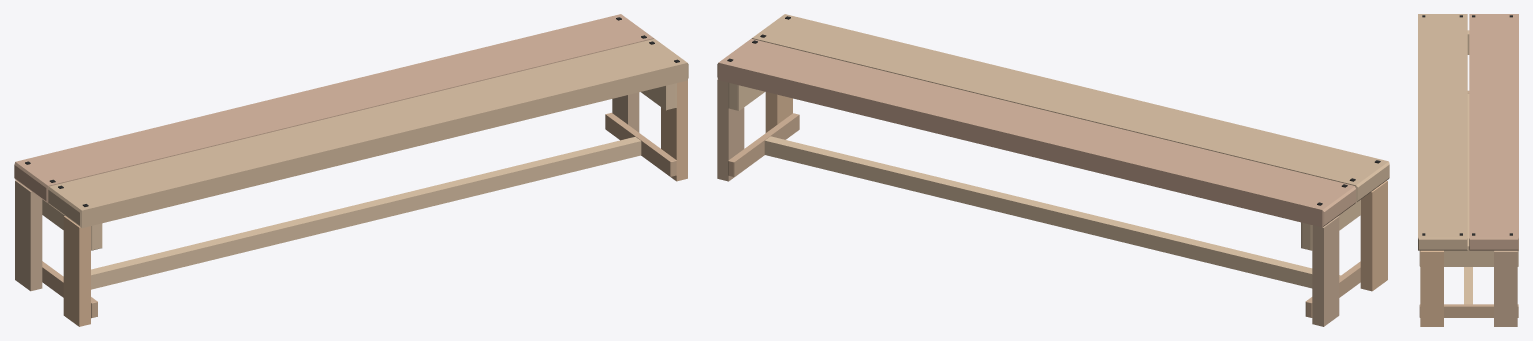
File: WoodenTableBench_01 (Updated).fbx
3 renders of one model, left to right at view 1: azimuth 30°, elevation 25°; view 2: azimuth 150°, elevation 25°; view 3: azimuth 270°, elevation 25°, orthographic. The views are drawn at different scales.
Parts seen in each view (by area): view 1: Bench; view 2: Bench; view 3: Bench.
Part boxes in pixels (x1,y1,x2,y2): Bench: [14, 14, 688, 326]; Bench: [717, 14, 1389, 326]; Bench: [1418, 14, 1518, 326].
Bounding box in the file's own units: 25.61 × 4.77 × 4.86.
